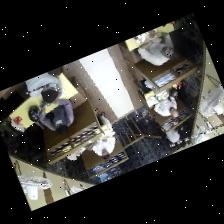person: (137, 32, 177, 64), (39, 99, 72, 133), (25, 72, 61, 102), (92, 111, 114, 159), (162, 122, 184, 146), (153, 96, 177, 116), (139, 77, 157, 93), (73, 131, 95, 143)
